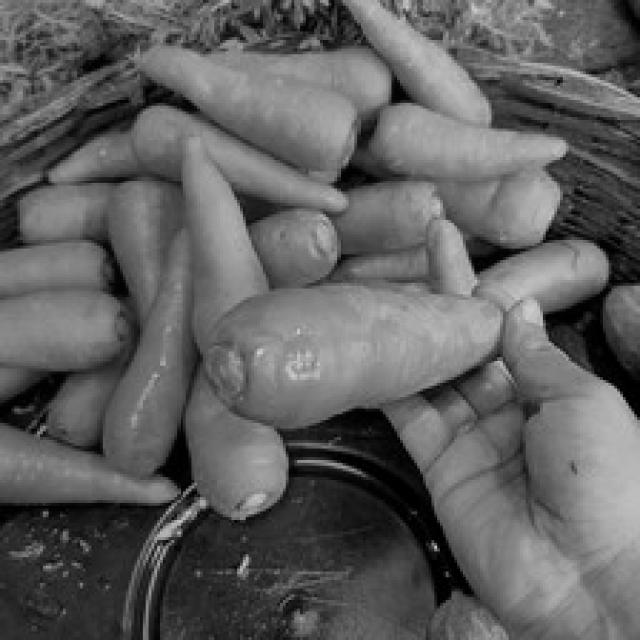Fresh_Carrot: (139, 43, 336, 140), (0, 411, 174, 500), (168, 144, 257, 299), (7, 246, 104, 292)
